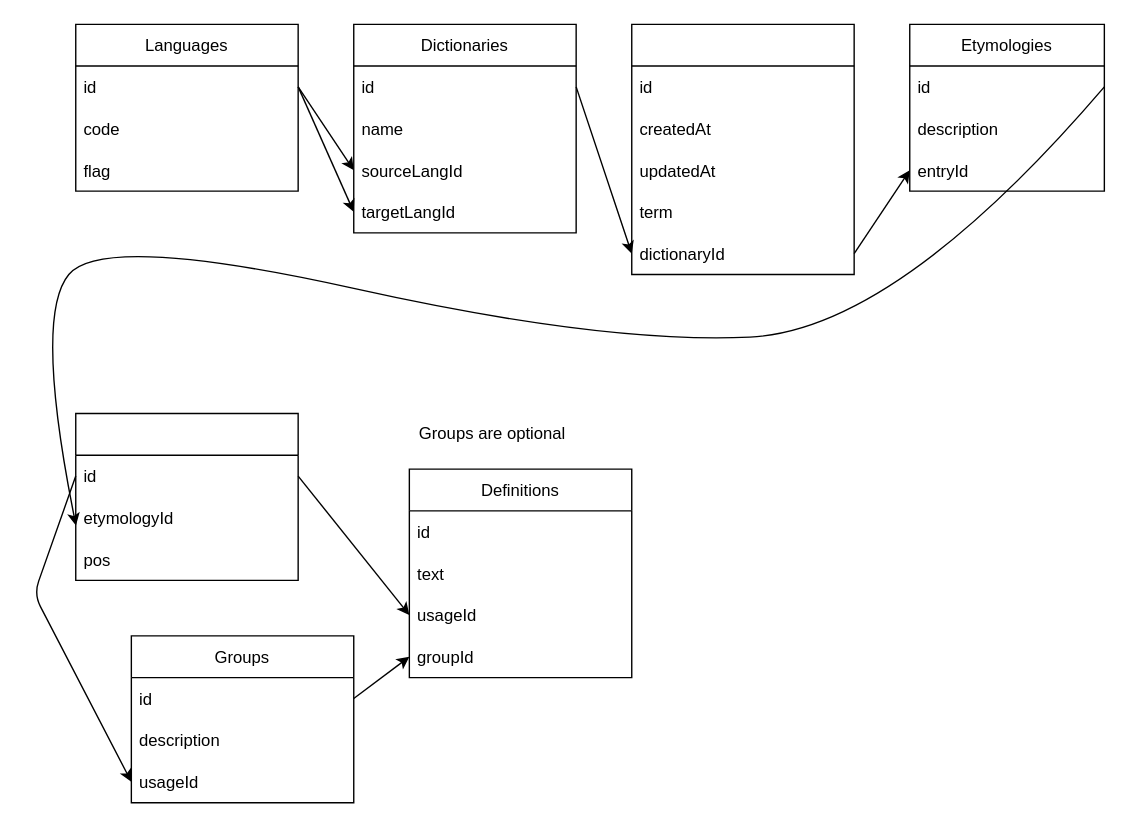
The diagram is 1129 pixels wide and 827 high, and some of its shapes have lost their labels. Here are the shapes that lost their labels. From the top down, the box of each, then its label:
(630, 23, 854, 275): Entries
(74, 412, 298, 580): Usages
